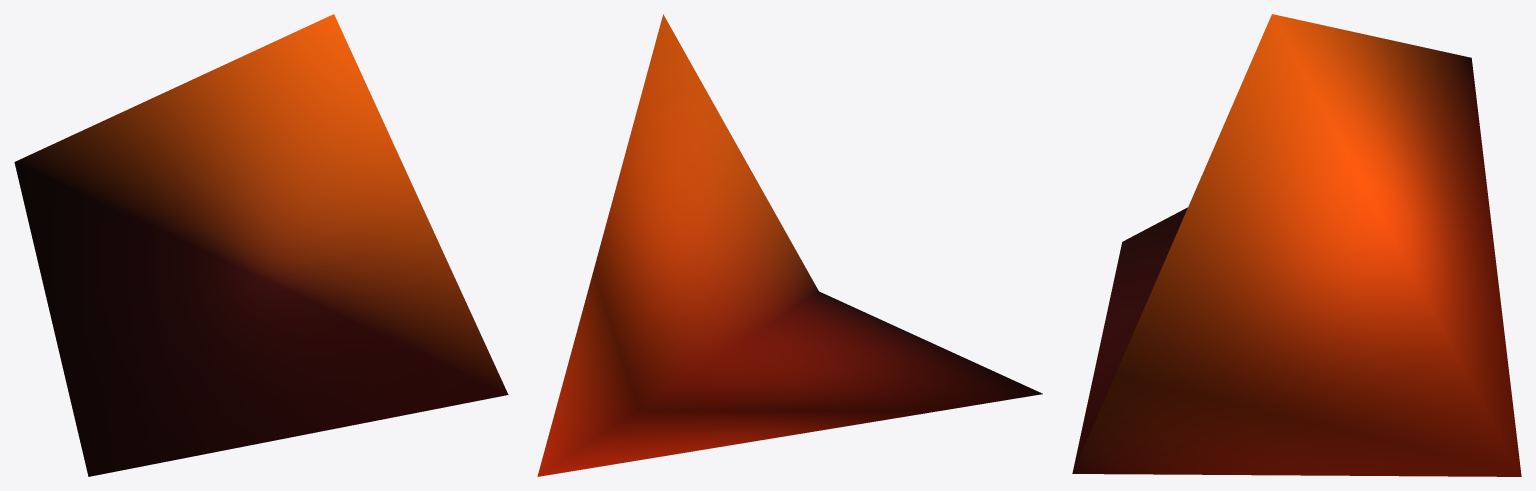
File: Explosion_EmberFragment.fbx
The picture shows the model from 3 angles, left to right: view 1: azimuth 30°, elevation 25°; view 2: azimuth 150°, elevation 25°; view 3: azimuth 270°, elevation 25°; orthographic projection. The views are drawn at different scales.
Visible parts, largest first — view 1: PART_EmberFragment; view 2: PART_EmberFragment; view 3: PART_EmberFragment.
Part boxes in pixels (x1,y1,x2,y2): PART_EmberFragment: [14, 14, 508, 476]; PART_EmberFragment: [537, 14, 1042, 476]; PART_EmberFragment: [1072, 14, 1521, 476].
Bounding box in the file's own units: 110 × 100 × 90.
